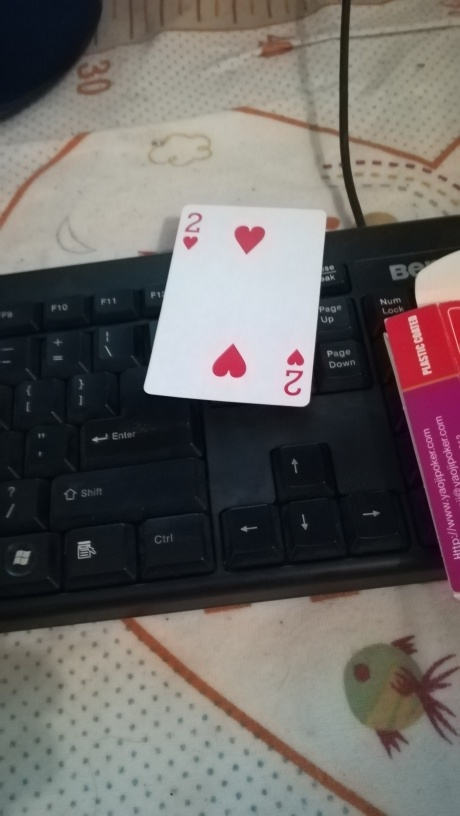hx 2: (142, 204, 328, 409)
